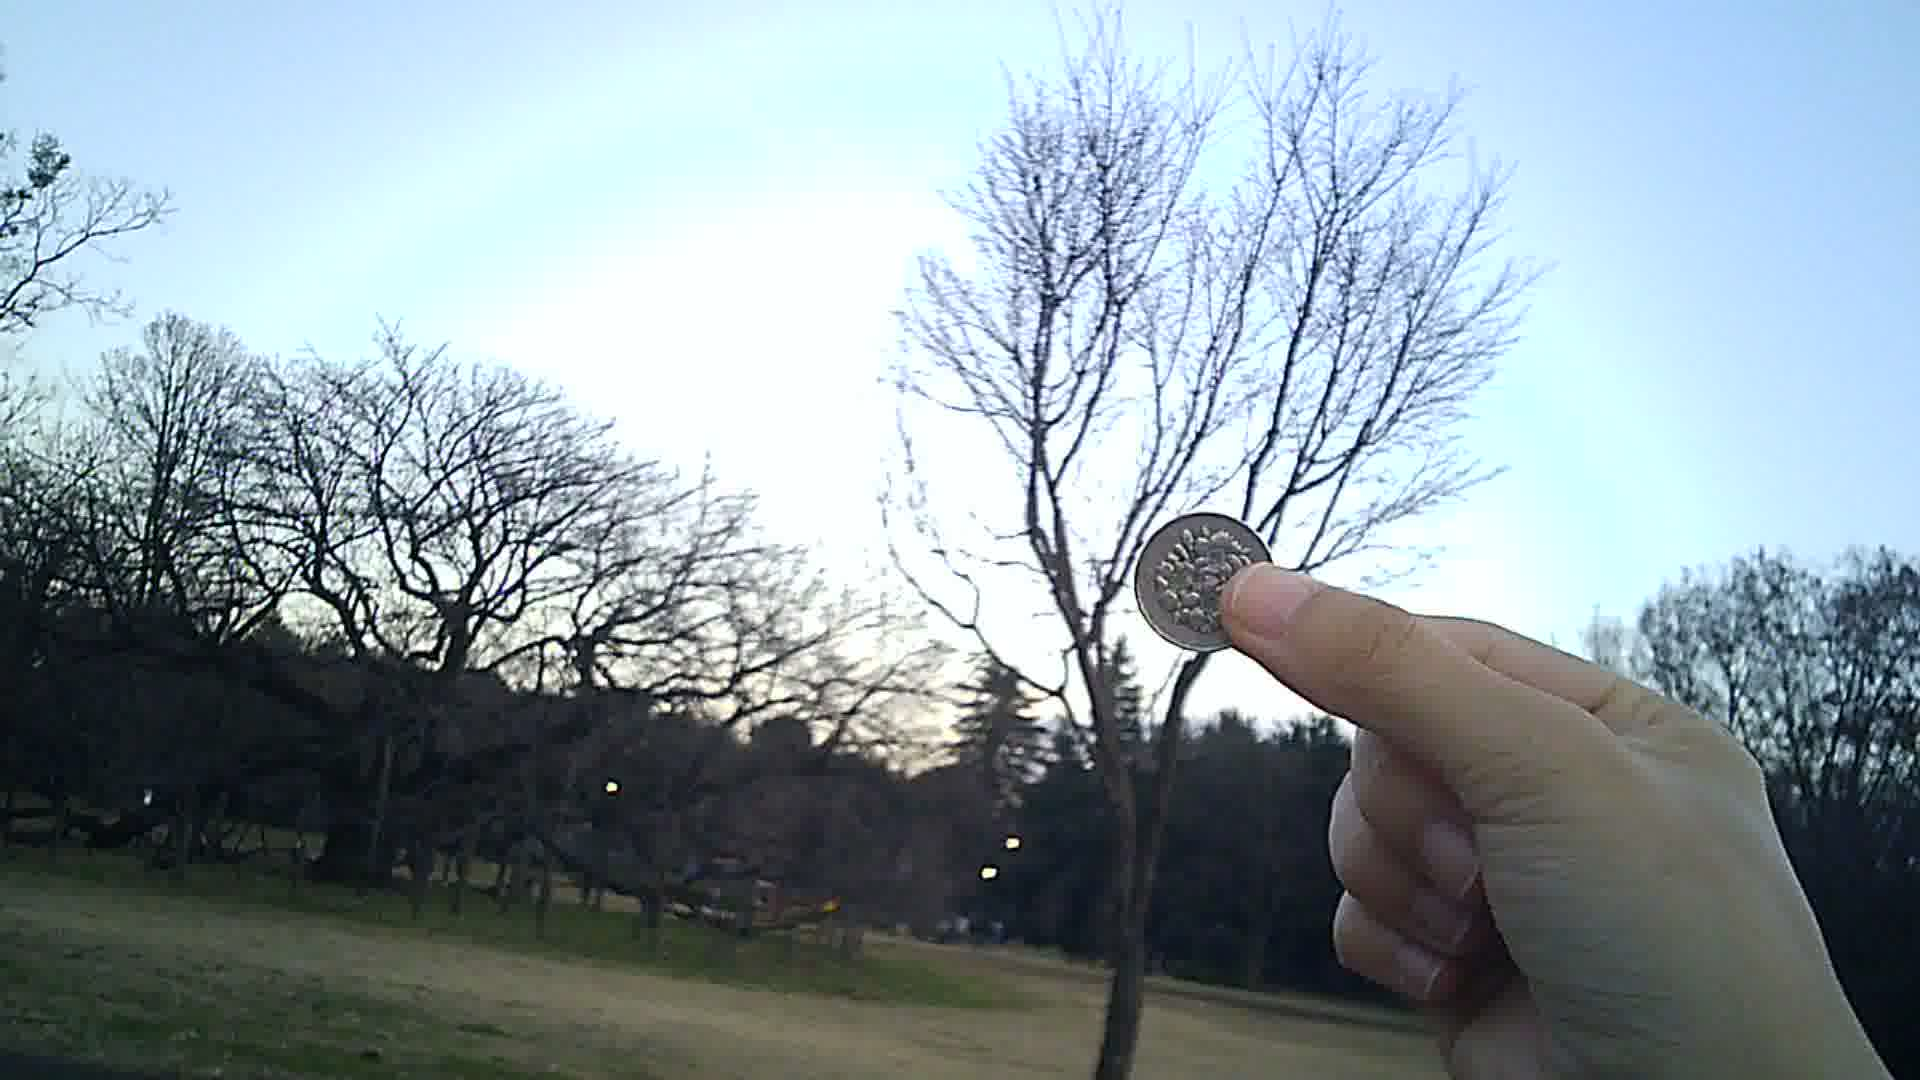100 Yen: (1126, 516, 1278, 653)
